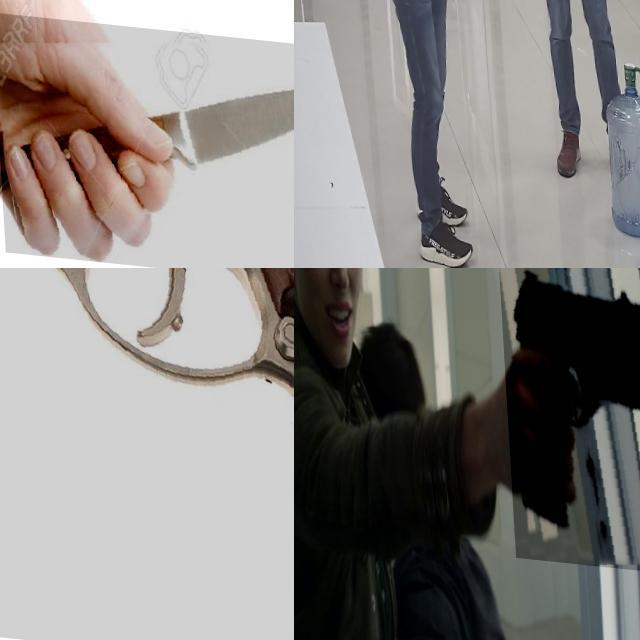-: (0, 8, 294, 268)
gun-knife-thesis - v11 Yolov5 augmented: (0, 268, 294, 640), (494, 268, 640, 565), (408, 0, 448, 35)
